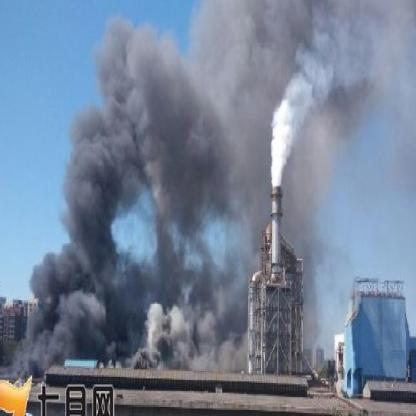smoke: (195, 1, 391, 110), (124, 264, 249, 366), (134, 109, 224, 221), (230, 107, 327, 210), (61, 107, 127, 254), (27, 249, 107, 369), (93, 17, 180, 109), (300, 210, 320, 352), (233, 212, 260, 265)
